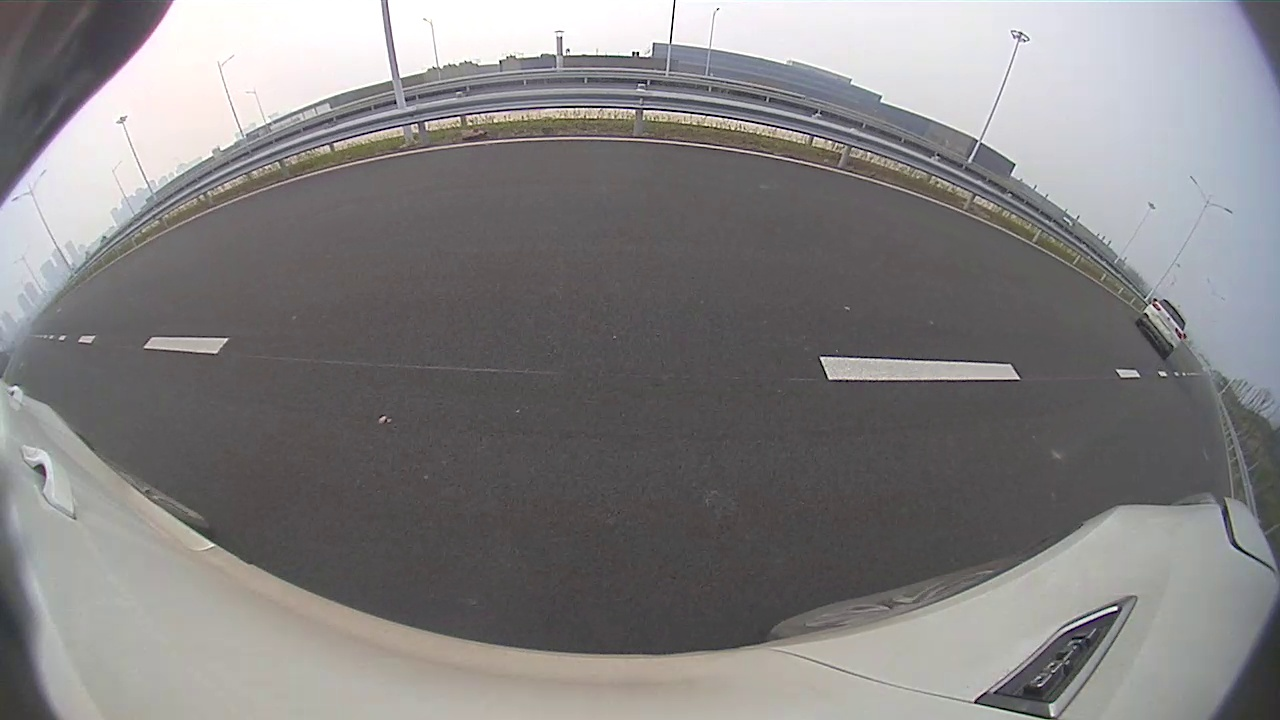car: (1135, 298, 1188, 360)
